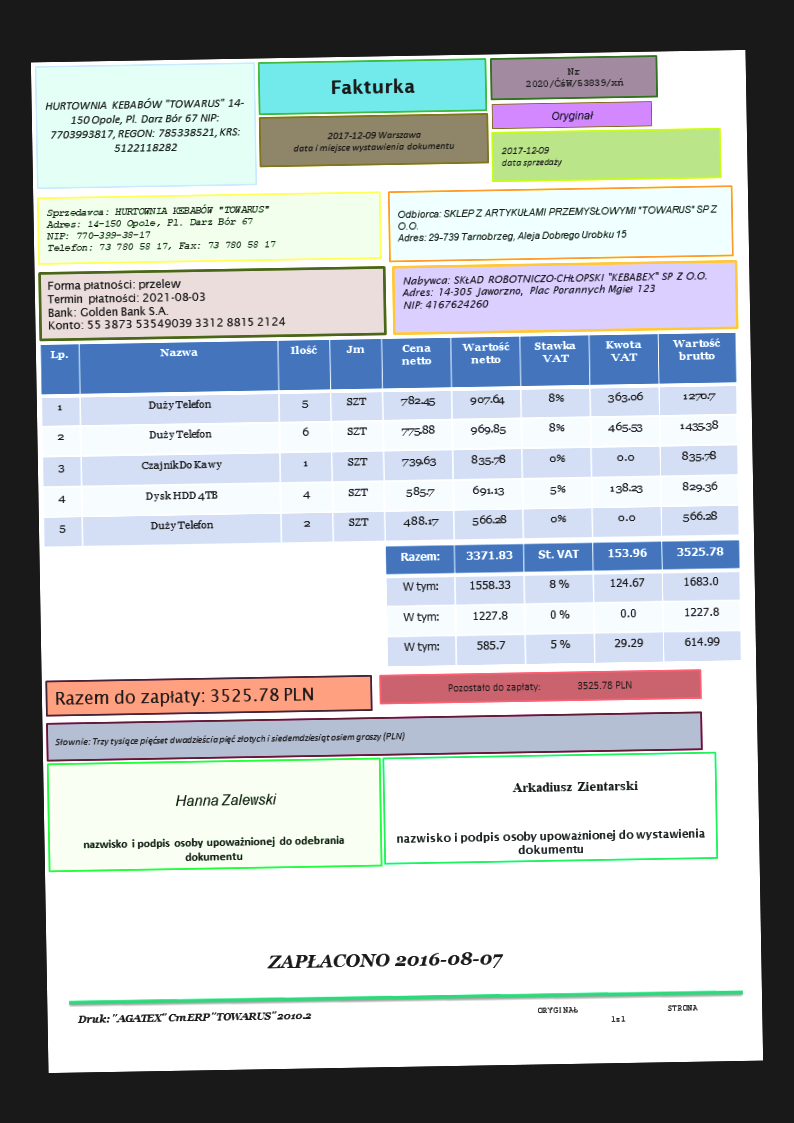Table: (39, 330, 741, 549), (383, 537, 743, 666)
TextBox: (393, 198, 721, 249), (397, 265, 711, 315), (43, 274, 288, 332), (41, 199, 279, 257), (42, 93, 248, 159), (393, 821, 710, 859), (79, 829, 350, 867), (50, 726, 408, 751), (49, 678, 317, 710), (264, 943, 508, 977), (74, 1006, 318, 1030), (288, 123, 457, 156), (534, 1000, 700, 1029), (442, 674, 638, 697), (523, 62, 628, 92), (170, 785, 279, 813), (510, 776, 642, 799), (325, 73, 418, 98), (498, 141, 565, 173), (548, 106, 597, 124)
